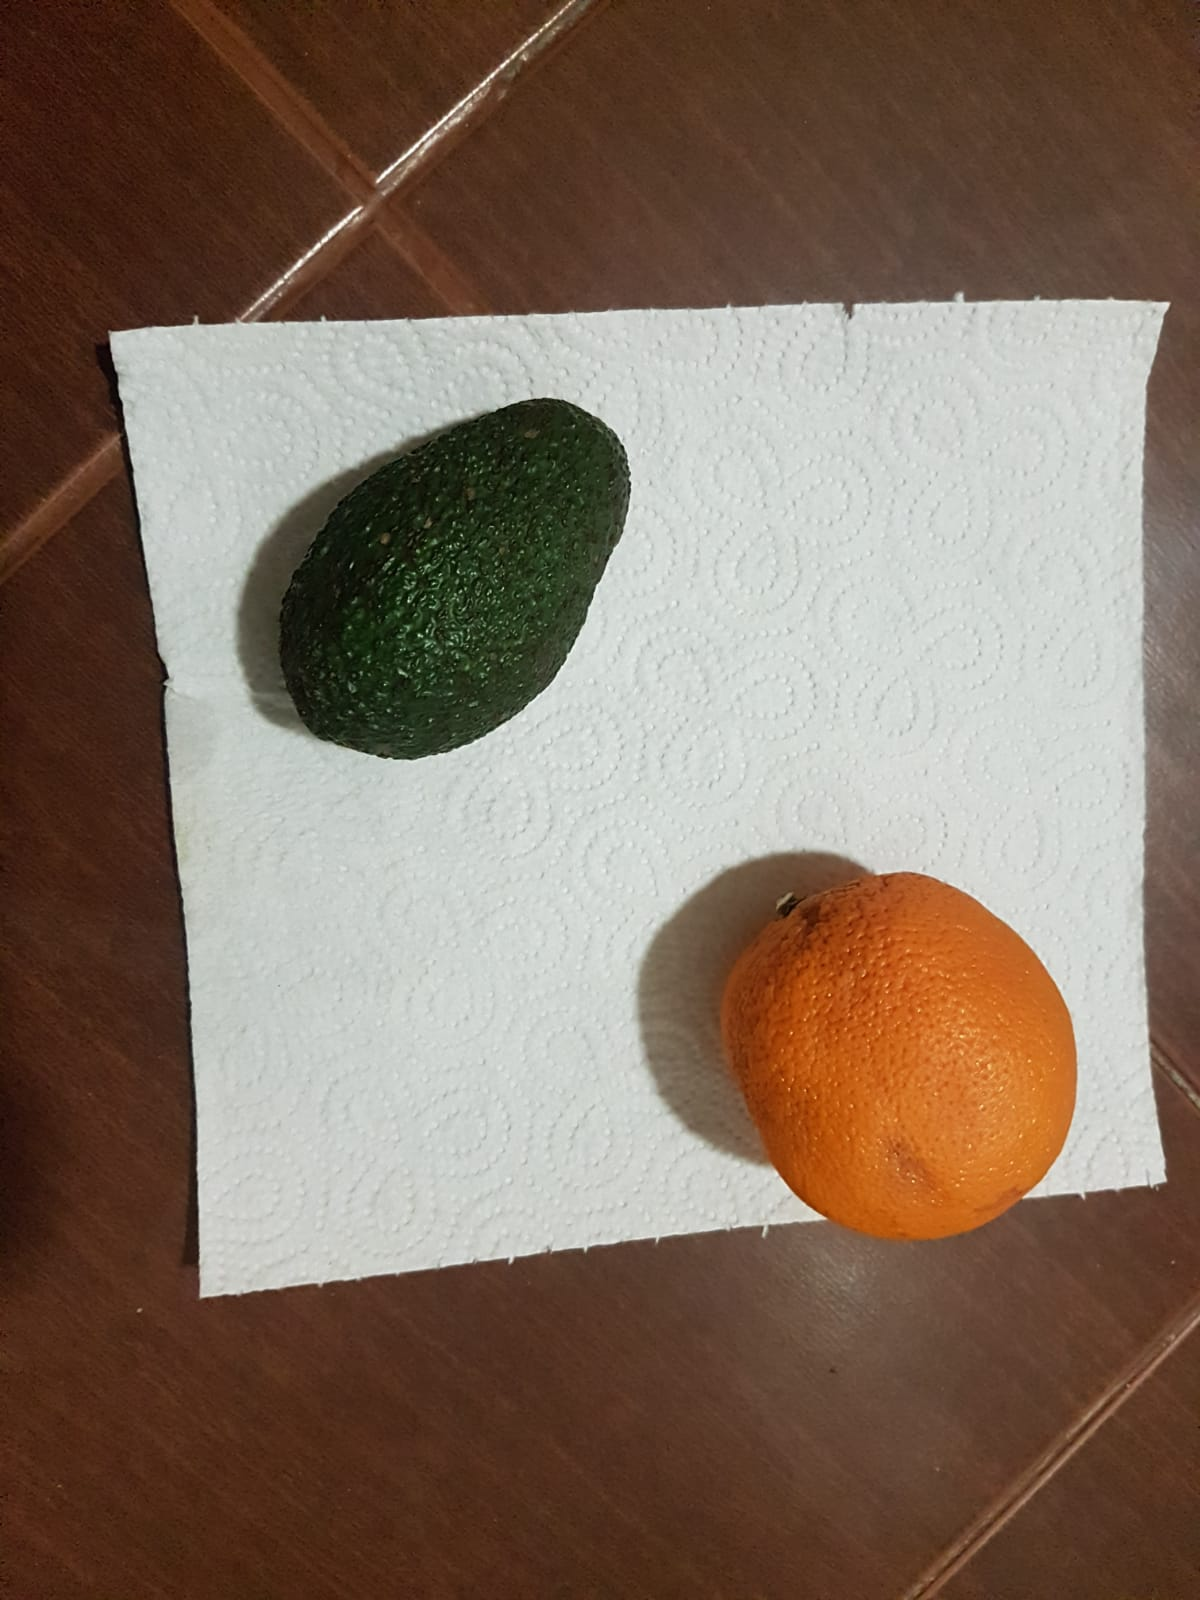Avocado: (270, 403, 637, 774)
Orange: (724, 869, 1089, 1245)
